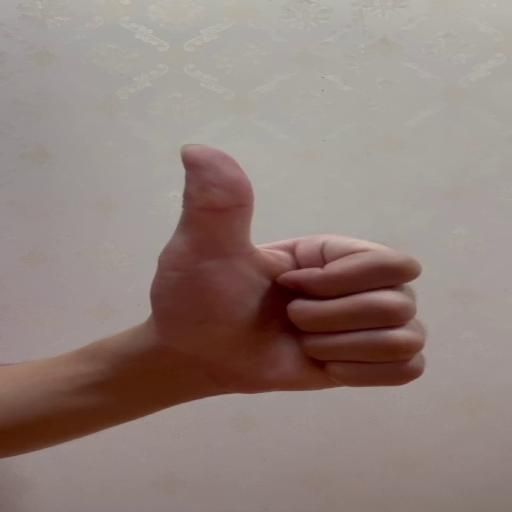thumbs_up: (149, 141, 431, 396)
